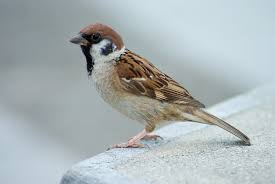hsparrow: (66, 22, 253, 151)
